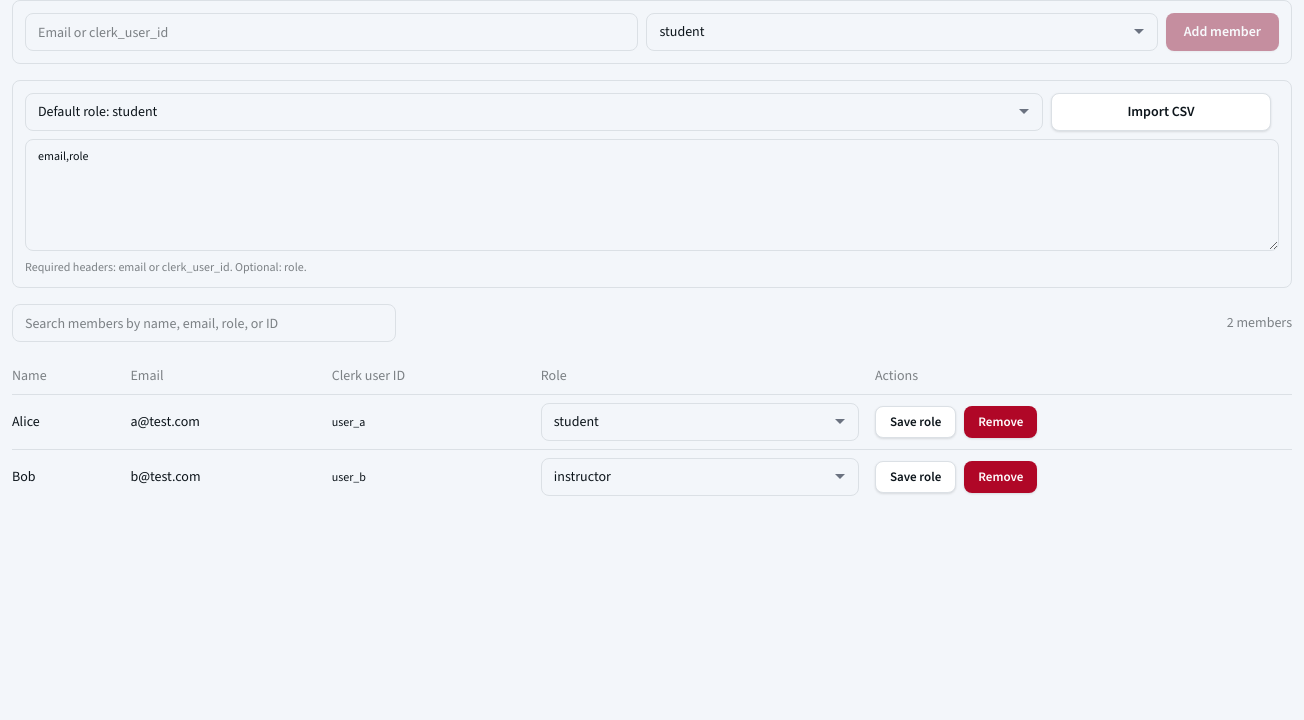
Scenario: ParishPeopleManager › shows error when updateRole fetch rejects
Click the button "Save role" in the row of "Alice" at (916, 422), box [875,406,956,438]
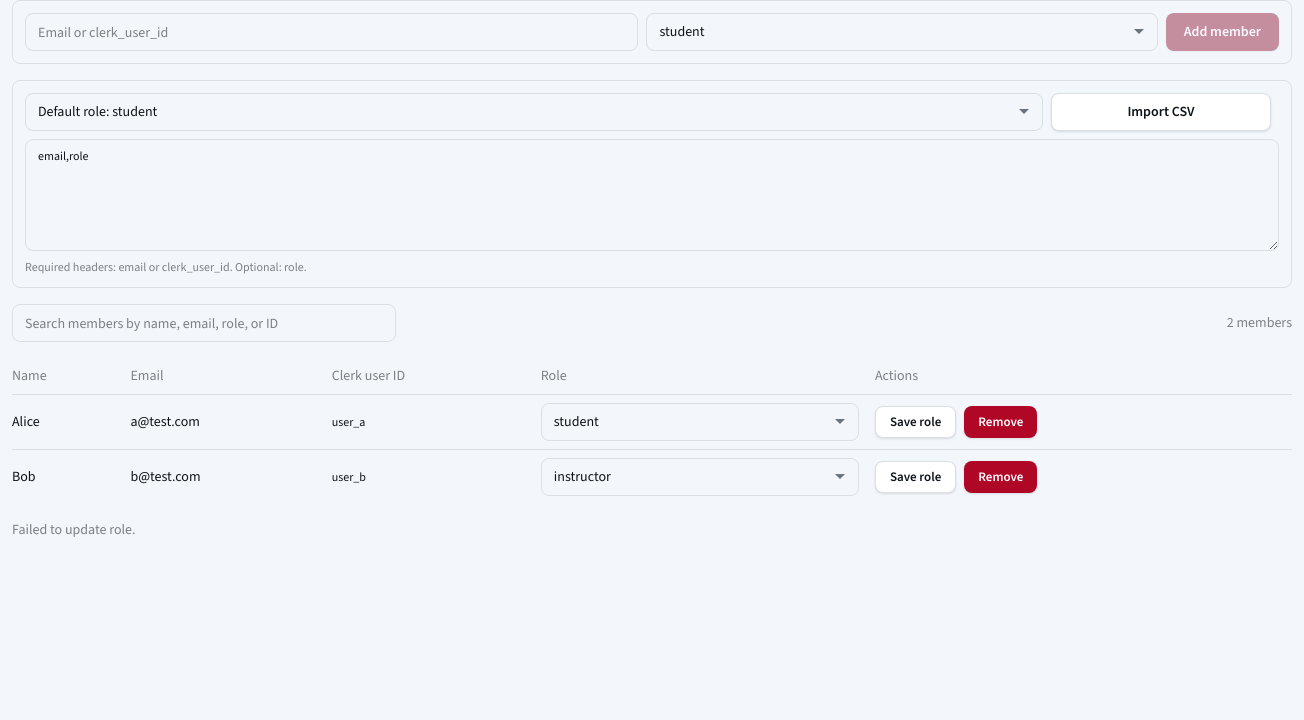
Check: the text "Failed to update role." is shown, box [12,520,136,539]
